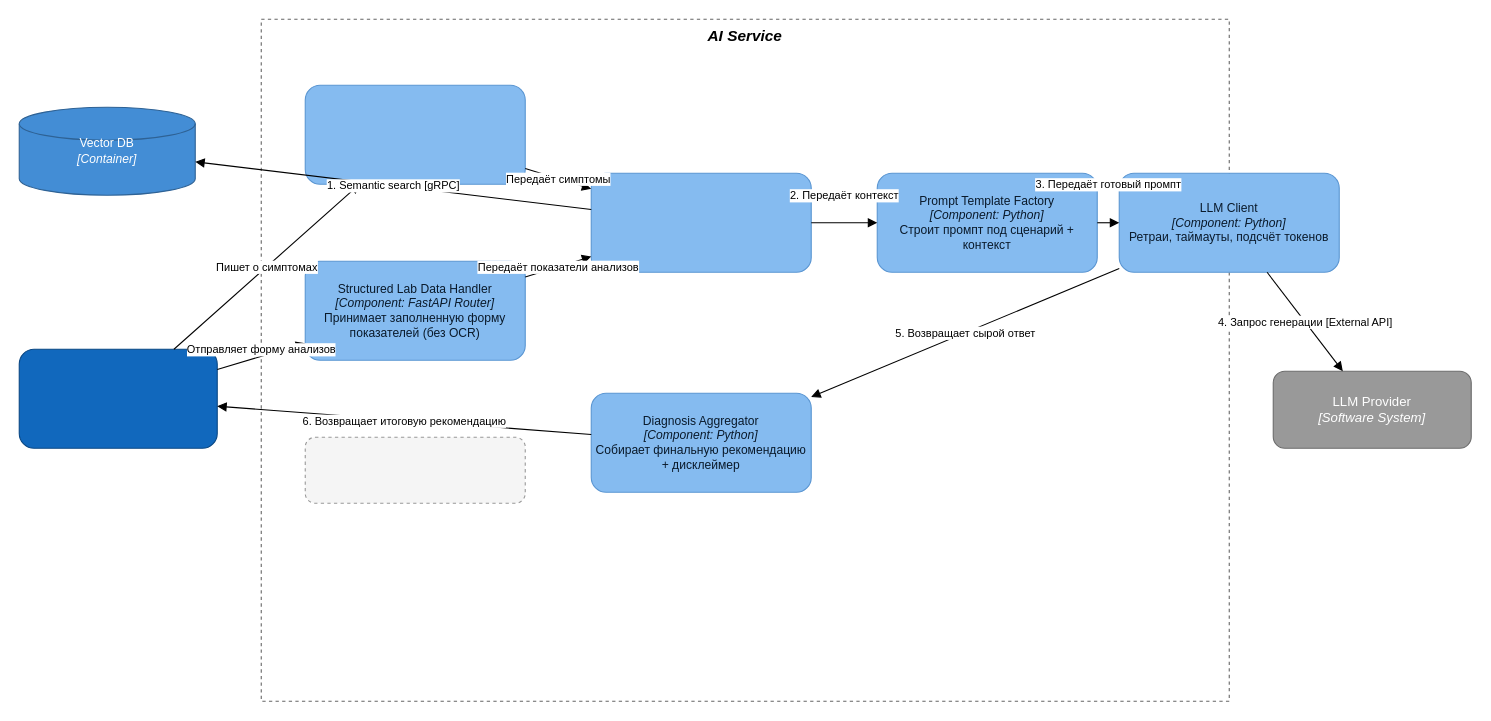
This 1491x721 diagram has some shape labels left out. The shapes that lost their labels are listed below. From the top down, each one's centre as x and y in pixels, then its label:
point 414,134: Text Symptom Controller [Component: FastAPI Router] Принимает текстовое описание
point 700,222: RAG Manager [Component: Python] Ищет контекст в Vector DB, собирает его
point 117,398: Backend [Container] (запрос сюда только если Triage Service не нашёл red flag)
point 414,469: Media Controller (фото/видео) — вне MVP, следующая итерация
